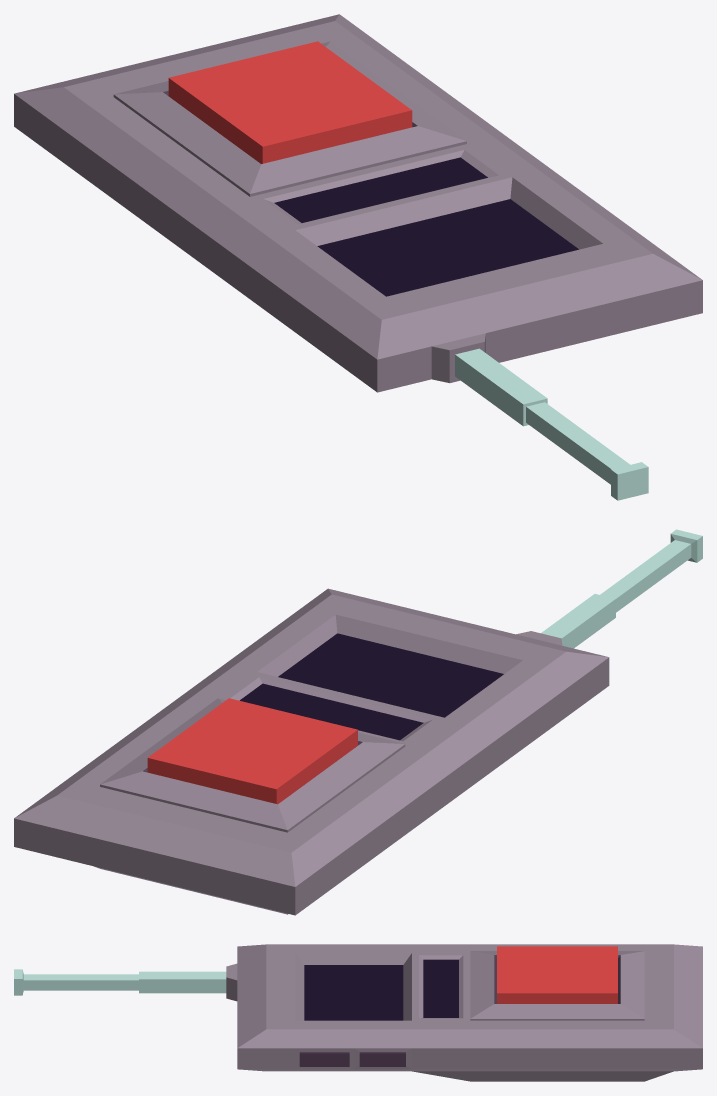
Rendered from Remote.fbx.
3 views of the same model, one above another, from view 1: azimuth 30°, elevation 25°; view 2: azimuth 150°, elevation 25°; view 3: azimuth 270°, elevation 25° (orthographic). The views are drawn at different scales.
Visible parts, largest first — view 1: Cube; view 2: Cube; view 3: Cube.
Part boxes in pixels (x1,y1,x2,y2): Cube: (14,14,702,500); Cube: (14,529,702,915); Cube: (14,944,702,1081).
Size of the model in its own units: 105 by 36.86 by 296.
